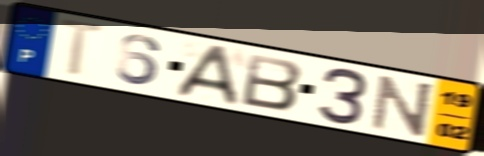3: (314, 66, 372, 126)
6: (115, 34, 163, 87)
A: (172, 44, 242, 107)
B: (239, 51, 305, 113)
N: (369, 73, 437, 139)
T: (55, 15, 112, 79)
